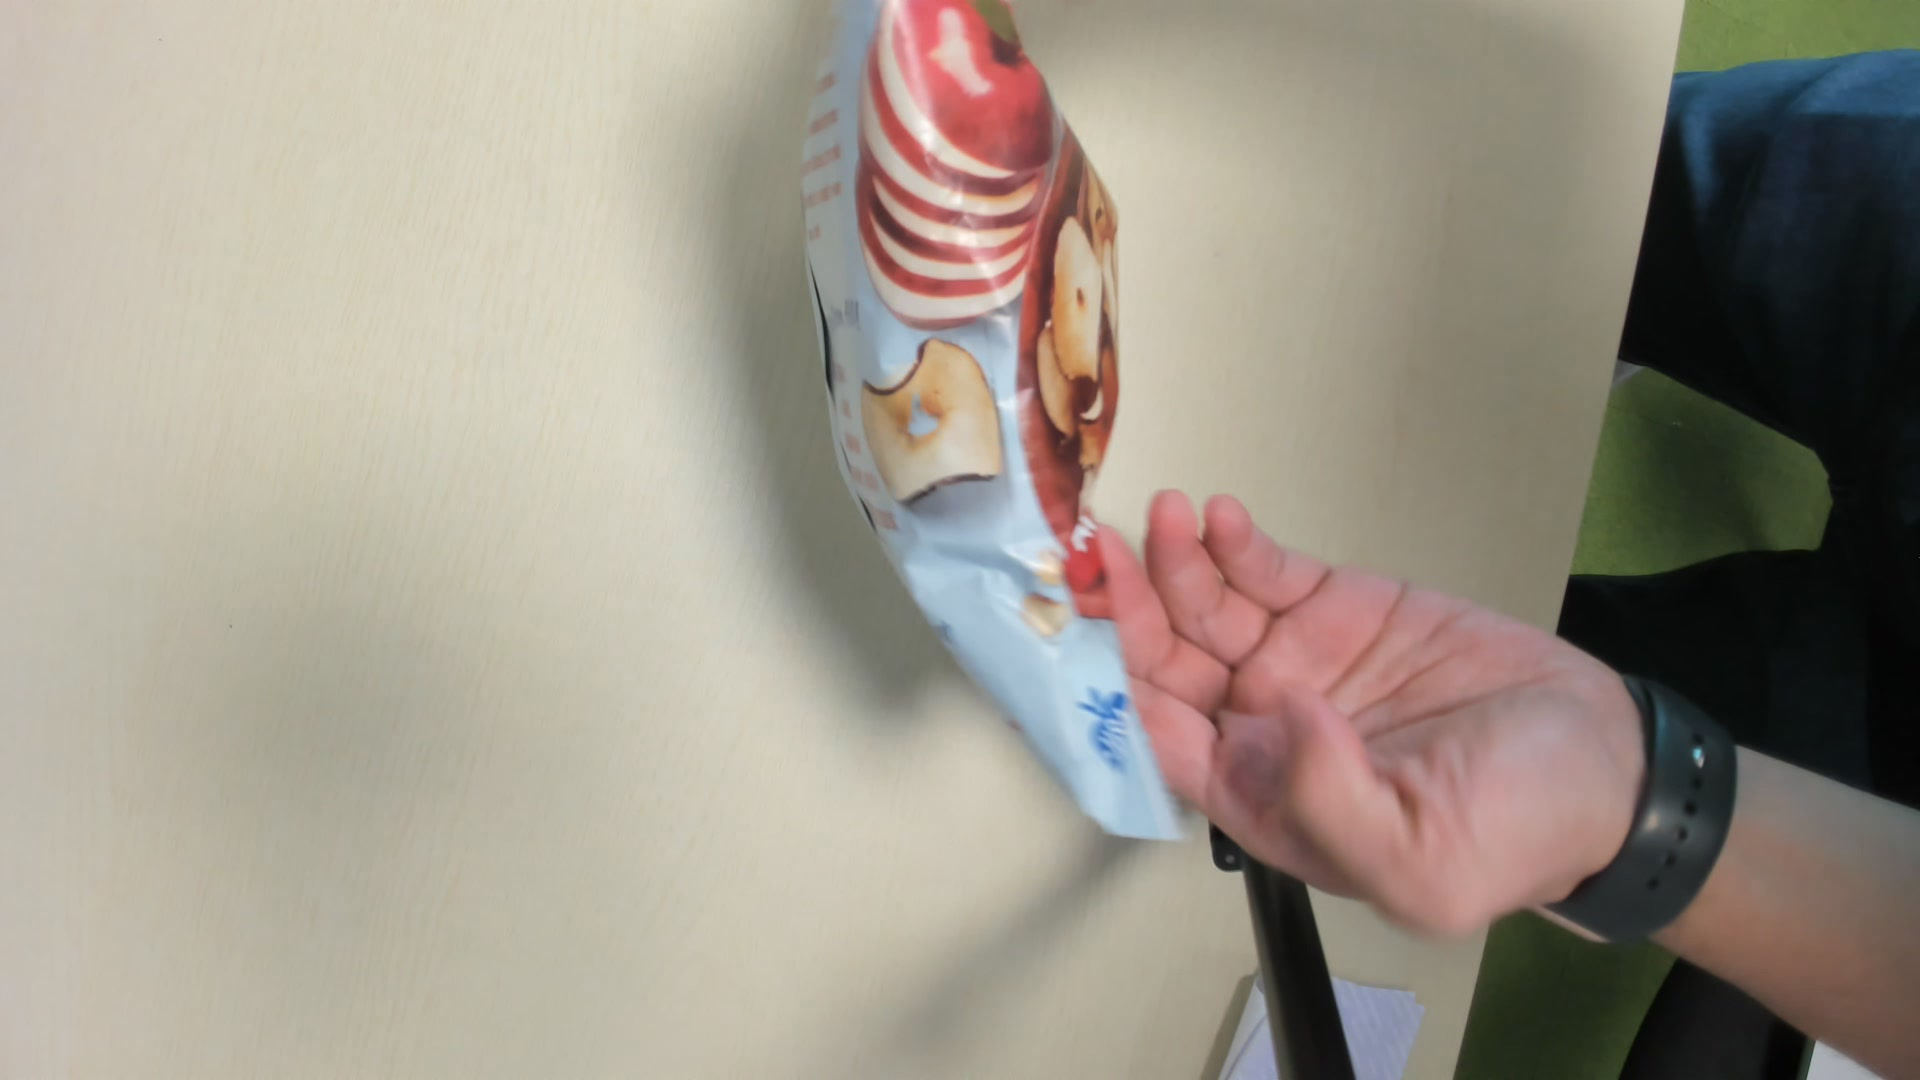PotatoChipsKeropok_0-99g_NonHalal_NonHealthy: (796, 8, 1185, 858)
